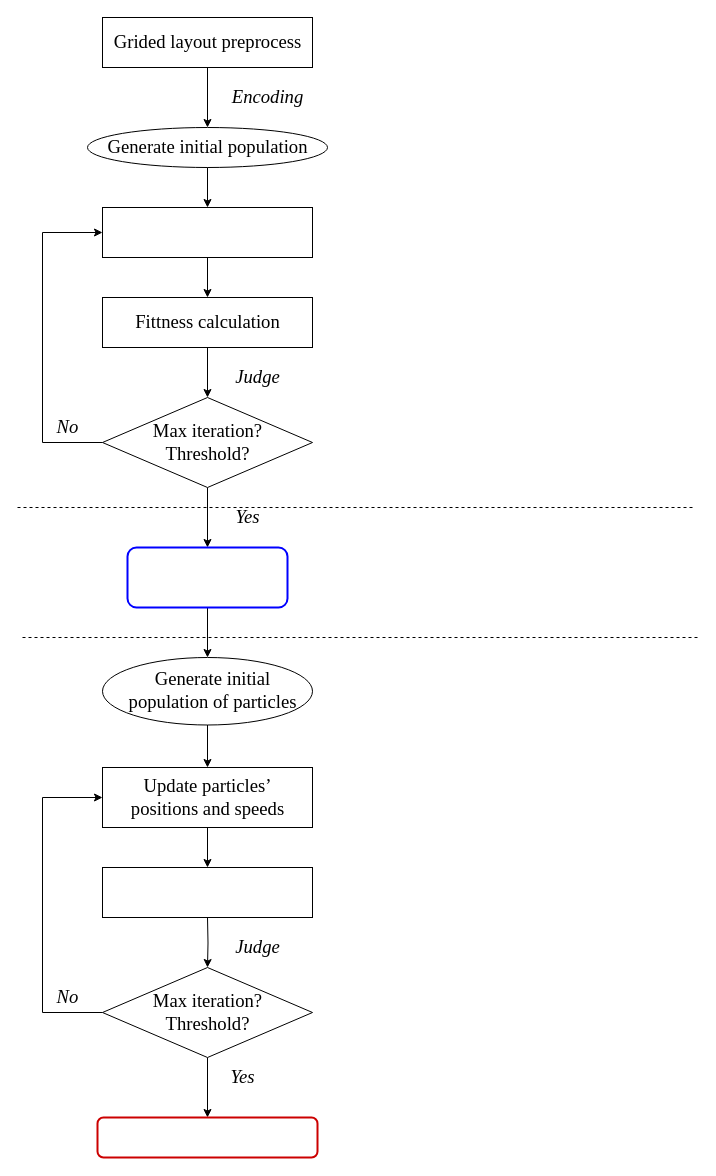
This 716x1176 diagram has some shape labels left out. Each missing label, with the box of its shape:
Location of wind turbine grids: (126, 546, 288, 608)
Particles evaluation: (102, 866, 312, 918)
Selection/Mutation Crossover/Sorting: (102, 206, 312, 258)
Wind turbine coordinates: (96, 1116, 318, 1158)
